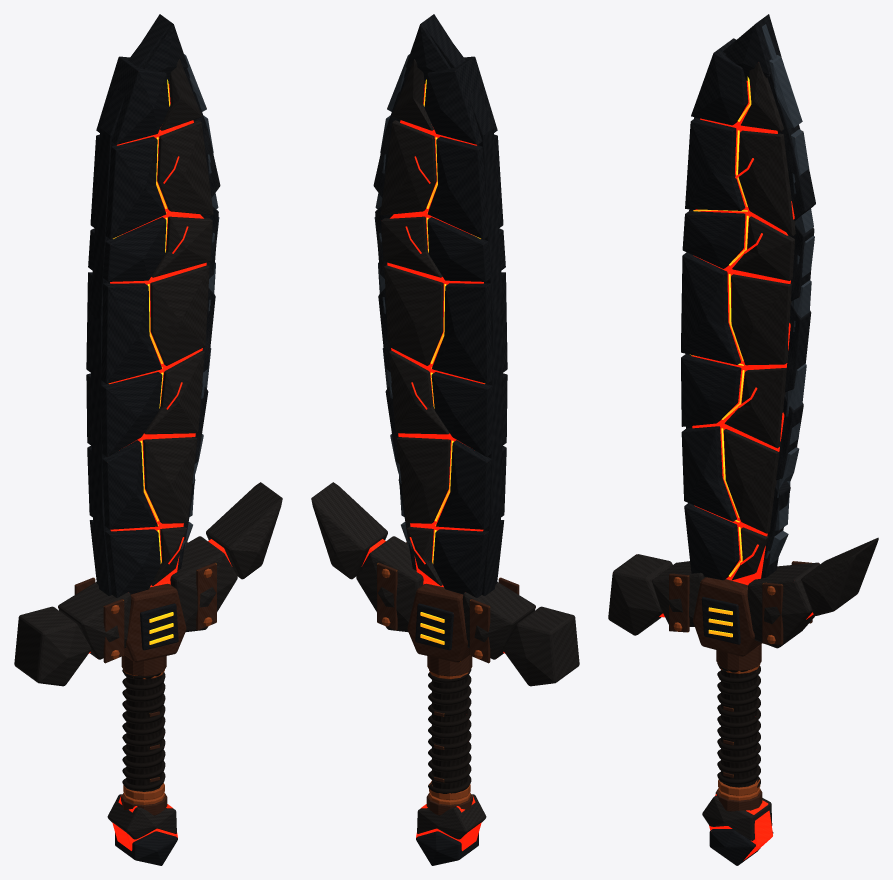
The model's file is Caldera_Sword.glb.
3 renders of one model, left to right at view 1: azimuth 30°, elevation 25°; view 2: azimuth 150°, elevation 25°; view 3: azimuth 330°, elevation 25°, orthographic.
Visible parts, largest first — view 1: Handle; view 2: Handle; view 3: Handle.
Part boxes in pixels (box(x1,y1,x2,y2)): Handle: box(14, 14, 282, 865); Handle: box(311, 14, 579, 865); Handle: box(608, 14, 878, 865).
Size of the model in its own units: 3.03 by 9.83 by 0.774.
1 material, 1 textured.
